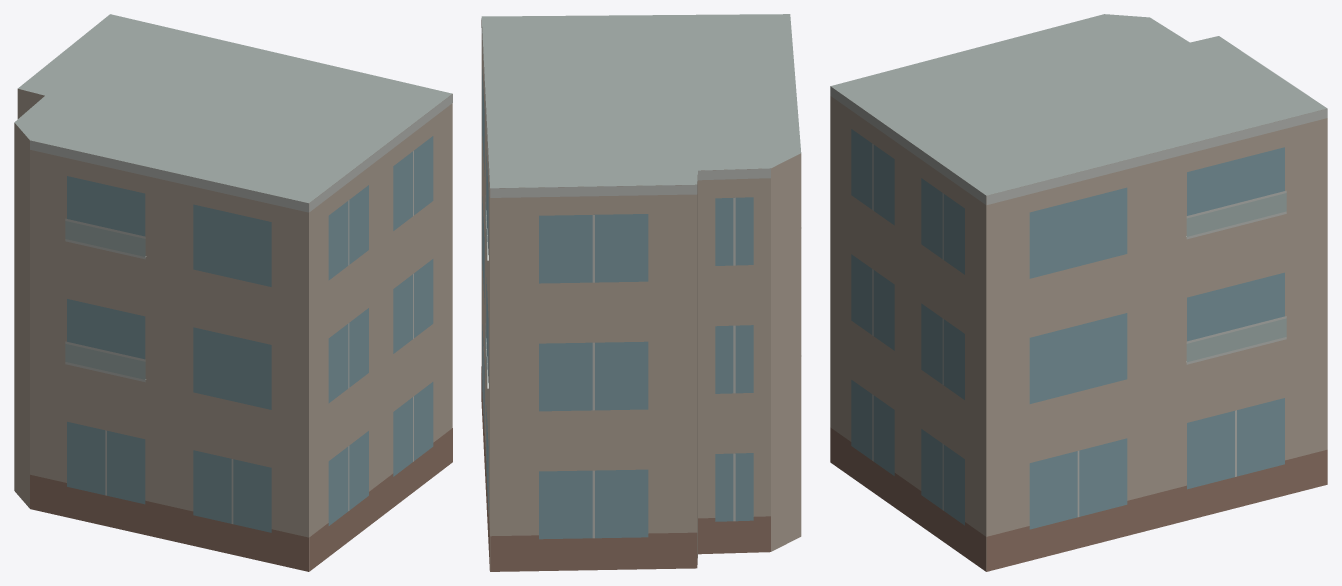
File: survey-upis-32627259.glb
3 views of the same model, side by side, from view 1: azimuth 30°, elevation 25°; view 2: azimuth 150°, elevation 25°; view 3: azimuth 270°, elevation 25° (orthographic). The views are drawn at different scales.
Visible parts, largest first — view 1: survey-upis-32627259.tmp; view 2: survey-upis-32627259.tmp; view 3: survey-upis-32627259.tmp.
Boxes of the visible parts, bbox=[...] form: survey-upis-32627259.tmp: bbox=[14, 14, 452, 571]; survey-upis-32627259.tmp: bbox=[481, 14, 801, 571]; survey-upis-32627259.tmp: bbox=[830, 14, 1327, 571].
Size of the model in its own units: 9.96 by 9.6 by 11.51.
